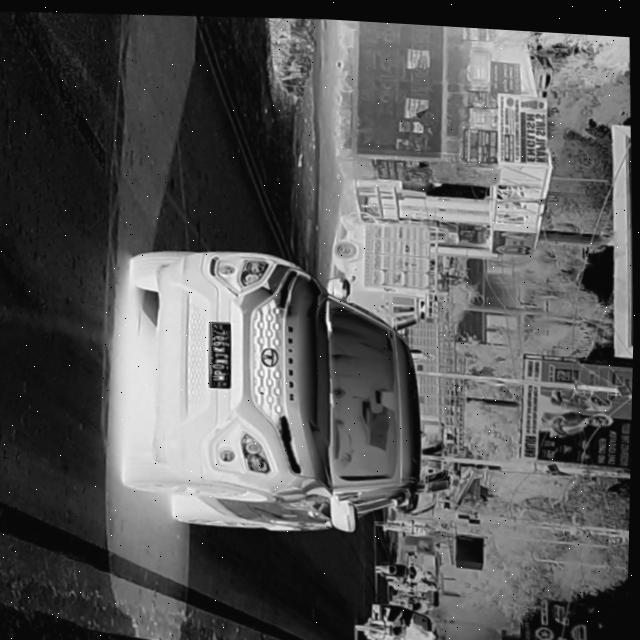0: (212, 361, 226, 366)
5: (212, 321, 226, 326)
6: (212, 332, 225, 338)
7: (210, 355, 226, 361), (213, 327, 226, 332)
9: (213, 338, 226, 343)
C: (210, 348, 226, 356)
IND: (215, 377, 227, 384)
Indian_registered: (210, 320, 231, 385)
K: (212, 342, 227, 350)
M: (212, 372, 226, 378)
P: (213, 366, 227, 372)
